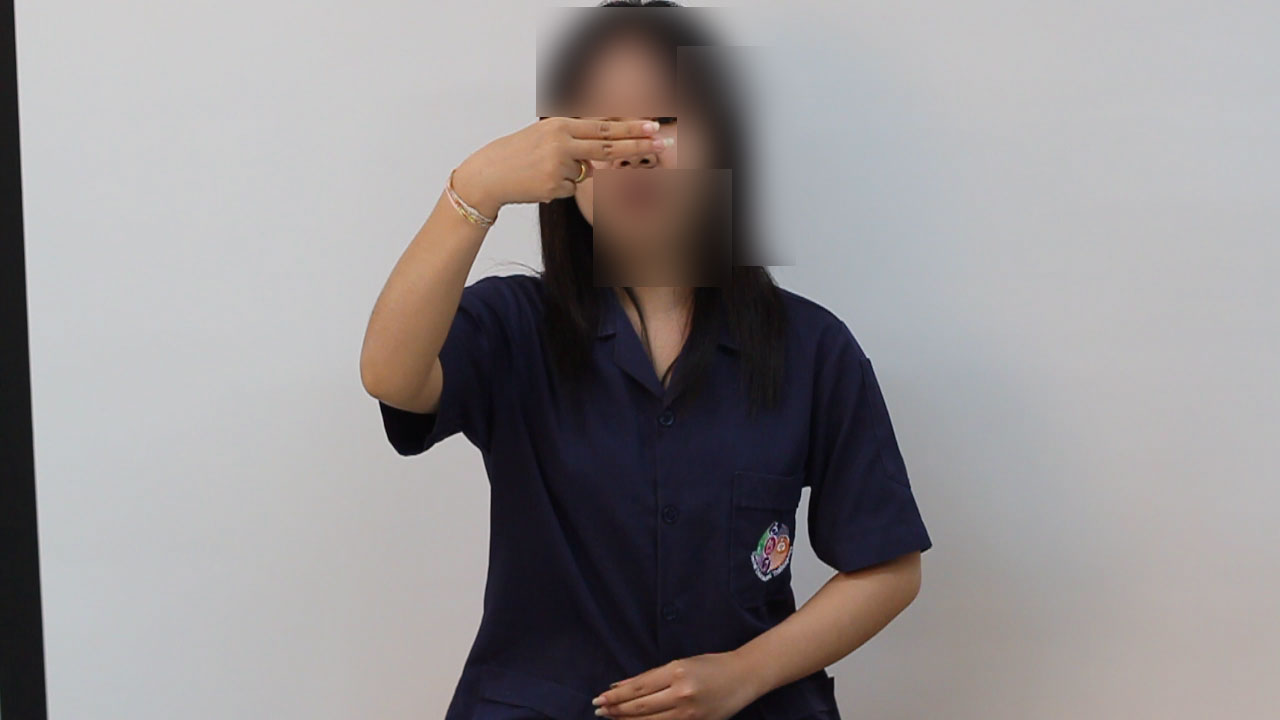hor: (429, 115, 695, 229)
